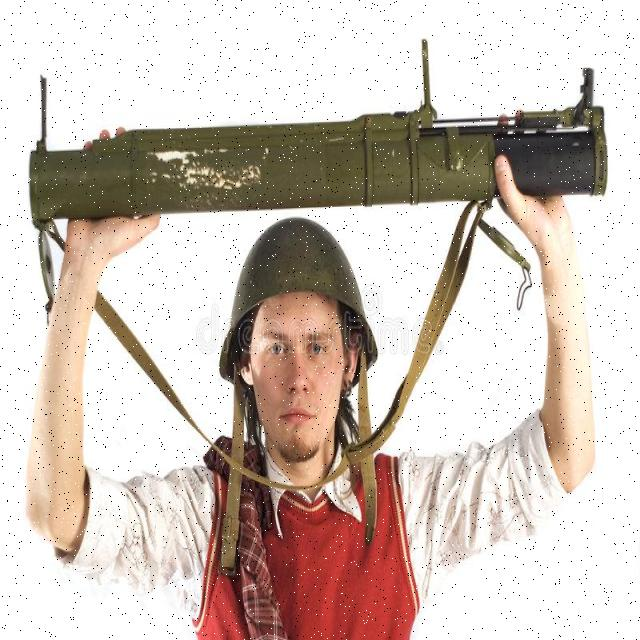bazooka: (18, 24, 617, 332)
